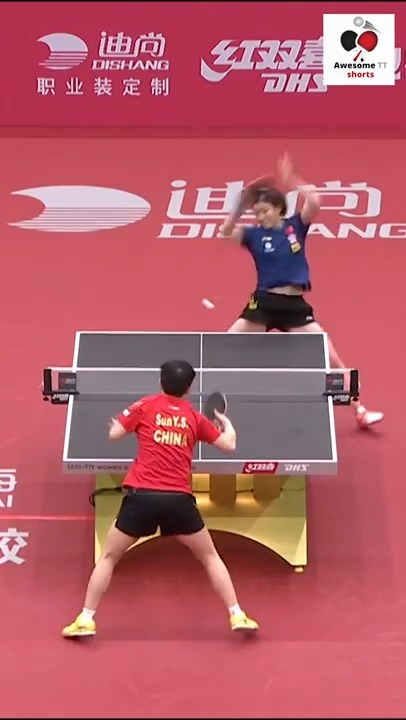Ball: (202, 299, 216, 311)
